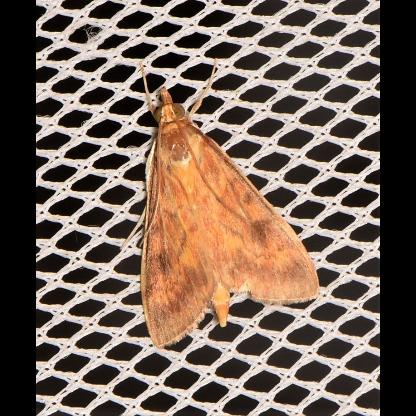Asian Corn Borer Moth: (119, 55, 323, 352)
